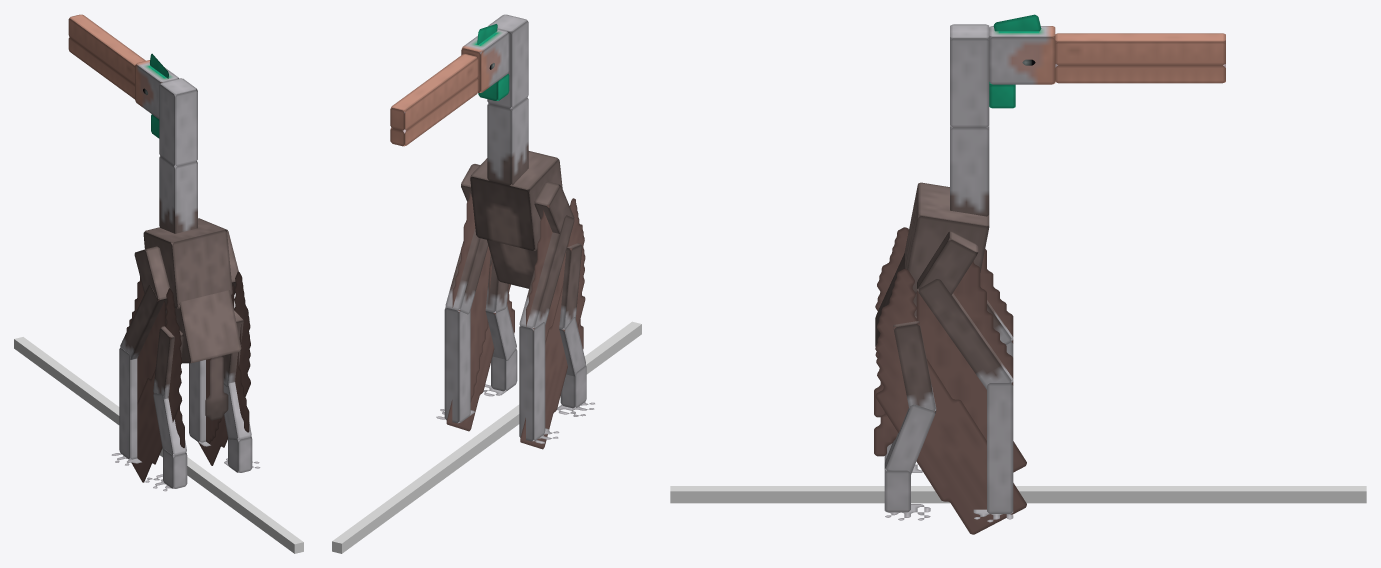
The model's file is Quetzalcoatlus FBX.fbx.
3 views of the same model, side by side, from view 1: azimuth 30°, elevation 25°; view 2: azimuth 150°, elevation 25°; view 3: azimuth 270°, elevation 25° (orthographic). The views are drawn at different scales.
Parts seen in each view (by area): view 1: cube, cube_38, cube_8, cube_2, cube_23, cube_1, cube_4, cube_21, cube_31, cube_20, cube_29, cube_3 (+12 smaller); view 2: cube, cube_38, cube_1, cube_21, cube_23, cube_29, cube_4, cube_20, cube_2, cube_3, cube_32, cube_8 (+14 smaller); view 3: cube_31, cube_38, cube_4, cube, cube_2, cube_3, cube_32, cube_29, cube_1, cube_28, cube_5, cube_14 (+6 smaller).
Boxes of the visible parts, x1=… form: cube: x1=143, y1=218, x2=232, y2=308; cube_38: x1=14, y1=337, x2=303, y2=553; cube_8: x1=165, y1=290, x2=241, y2=363; cube_2: x1=159, y1=78, x2=197, y2=166; cube_23: x1=131, y1=288, x2=182, y2=482; cube_1: x1=159, y1=156, x2=197, y2=233; cube_4: x1=68, y1=14, x2=145, y2=84; cube_21: x1=119, y1=347, x2=137, y2=459; cube_31: x1=198, y1=271, x2=250, y2=465; cube_20: x1=120, y1=285, x2=167, y2=359; cube_29: x1=189, y1=360, x2=205, y2=442; cube_3: x1=135, y1=60, x2=178, y2=119; cube: x1=470, y1=151, x2=562, y2=250; cube_38: x1=332, y1=321, x2=641, y2=553; cube_1: x1=487, y1=98, x2=528, y2=185; cube_21: x1=519, y1=322, x2=545, y2=441; cube_23: x1=520, y1=198, x2=585, y2=449; cube_29: x1=444, y1=307, x2=470, y2=423; cube_4: x1=390, y1=54, x2=478, y2=130; cube_20: x1=519, y1=215, x2=574, y2=330; cube_2: x1=487, y1=14, x2=528, y2=108; cube_3: x1=461, y1=29, x2=509, y2=92; cube_32: x1=457, y1=246, x2=490, y2=402; cube_8: x1=487, y1=240, x2=537, y2=288; cube_31: x1=875, y1=269, x2=1026, y2=534; cube_38: x1=670, y1=486, x2=1366, y2=503; cube_4: x1=1055, y1=33, x2=1225, y2=65; cube: x1=904, y1=182, x2=989, y2=293; cube_2: x1=950, y1=24, x2=989, y2=127; cube_3: x1=989, y1=26, x2=1055, y2=84; cube_32: x1=916, y1=291, x2=986, y2=440; cube_29: x1=987, y1=381, x2=1013, y2=513; cube_1: x1=950, y1=125, x2=989, y2=216; cube_28: x1=917, y1=279, x2=1013, y2=389; cube_5: x1=1055, y1=63, x2=1225, y2=83; cube_14: x1=893, y1=315, x2=936, y2=411.
Size of the model in its own units: 151 by 545 by 662.
1 material, 1 textured.
